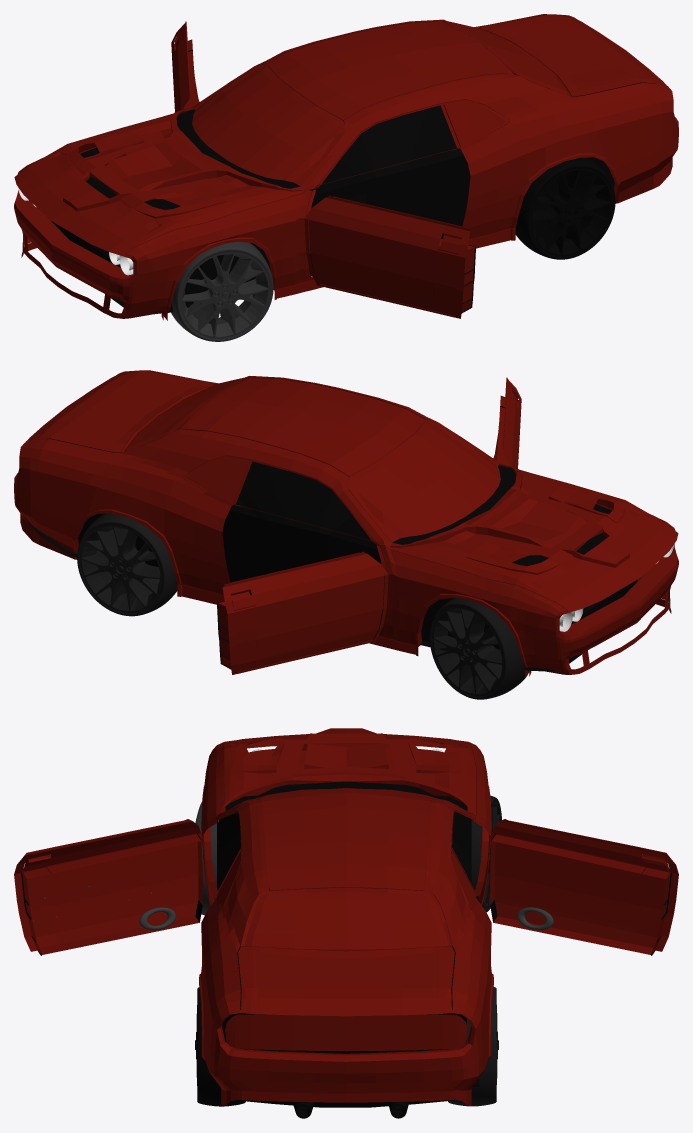
File: SedanBase.glb
The picture shows the model from 3 angles, top to bottom: view 1: azimuth 30°, elevation 25°; view 2: azimuth 150°, elevation 25°; view 3: azimuth 270°, elevation 25°; orthographic projection. The views are drawn at different scales.
Visible parts, largest first — view 1: Plane, Cube.001, Circle.003, Circle.001; view 2: Plane, Cube.001, Circle.002, Circle.004, Circle; view 3: Plane, Cube.001, Circle.002, Circle.003, Circle.004, Plane.003, Circle.001, Circle.
Boxes of the visible parts, x1,y1,x2,y2 form: Plane: (14, 14, 678, 320); Cube.001: (51, 82, 646, 313); Circle.003: (515, 157, 615, 259); Circle.001: (171, 241, 273, 341); Plane: (14, 370, 678, 676); Cube.001: (47, 438, 637, 649); Circle.002: (77, 513, 177, 616); Circle.004: (429, 598, 528, 699); Circle: (23, 516, 581, 671); Plane: (14, 728, 678, 1105); Cube.001: (217, 781, 471, 1107); Circle.002: (448, 987, 498, 1106); Circle.003: (195, 987, 245, 1106); Circle.004: (471, 795, 501, 912); Plane.003: (33, 886, 553, 930); Circle.001: (195, 802, 216, 915); Circle: (293, 896, 479, 1118).
Bounding box in the file's own units: 3.25 × 0.9807 × 2.82.
